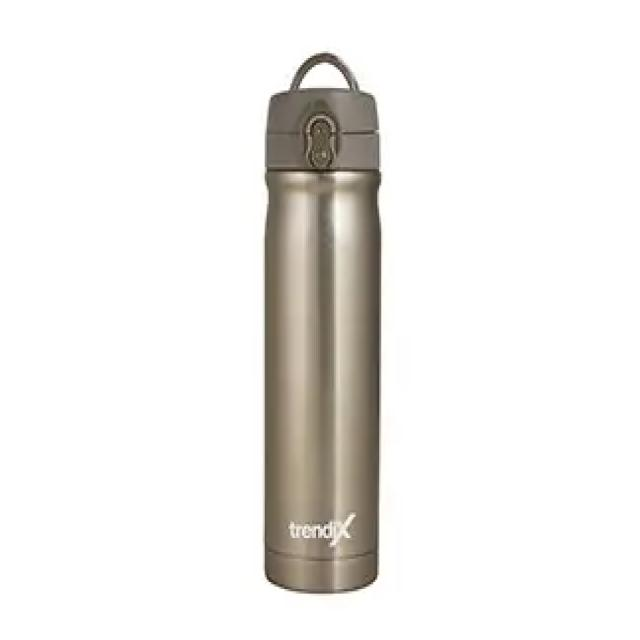Termos: (261, 49, 381, 596)
